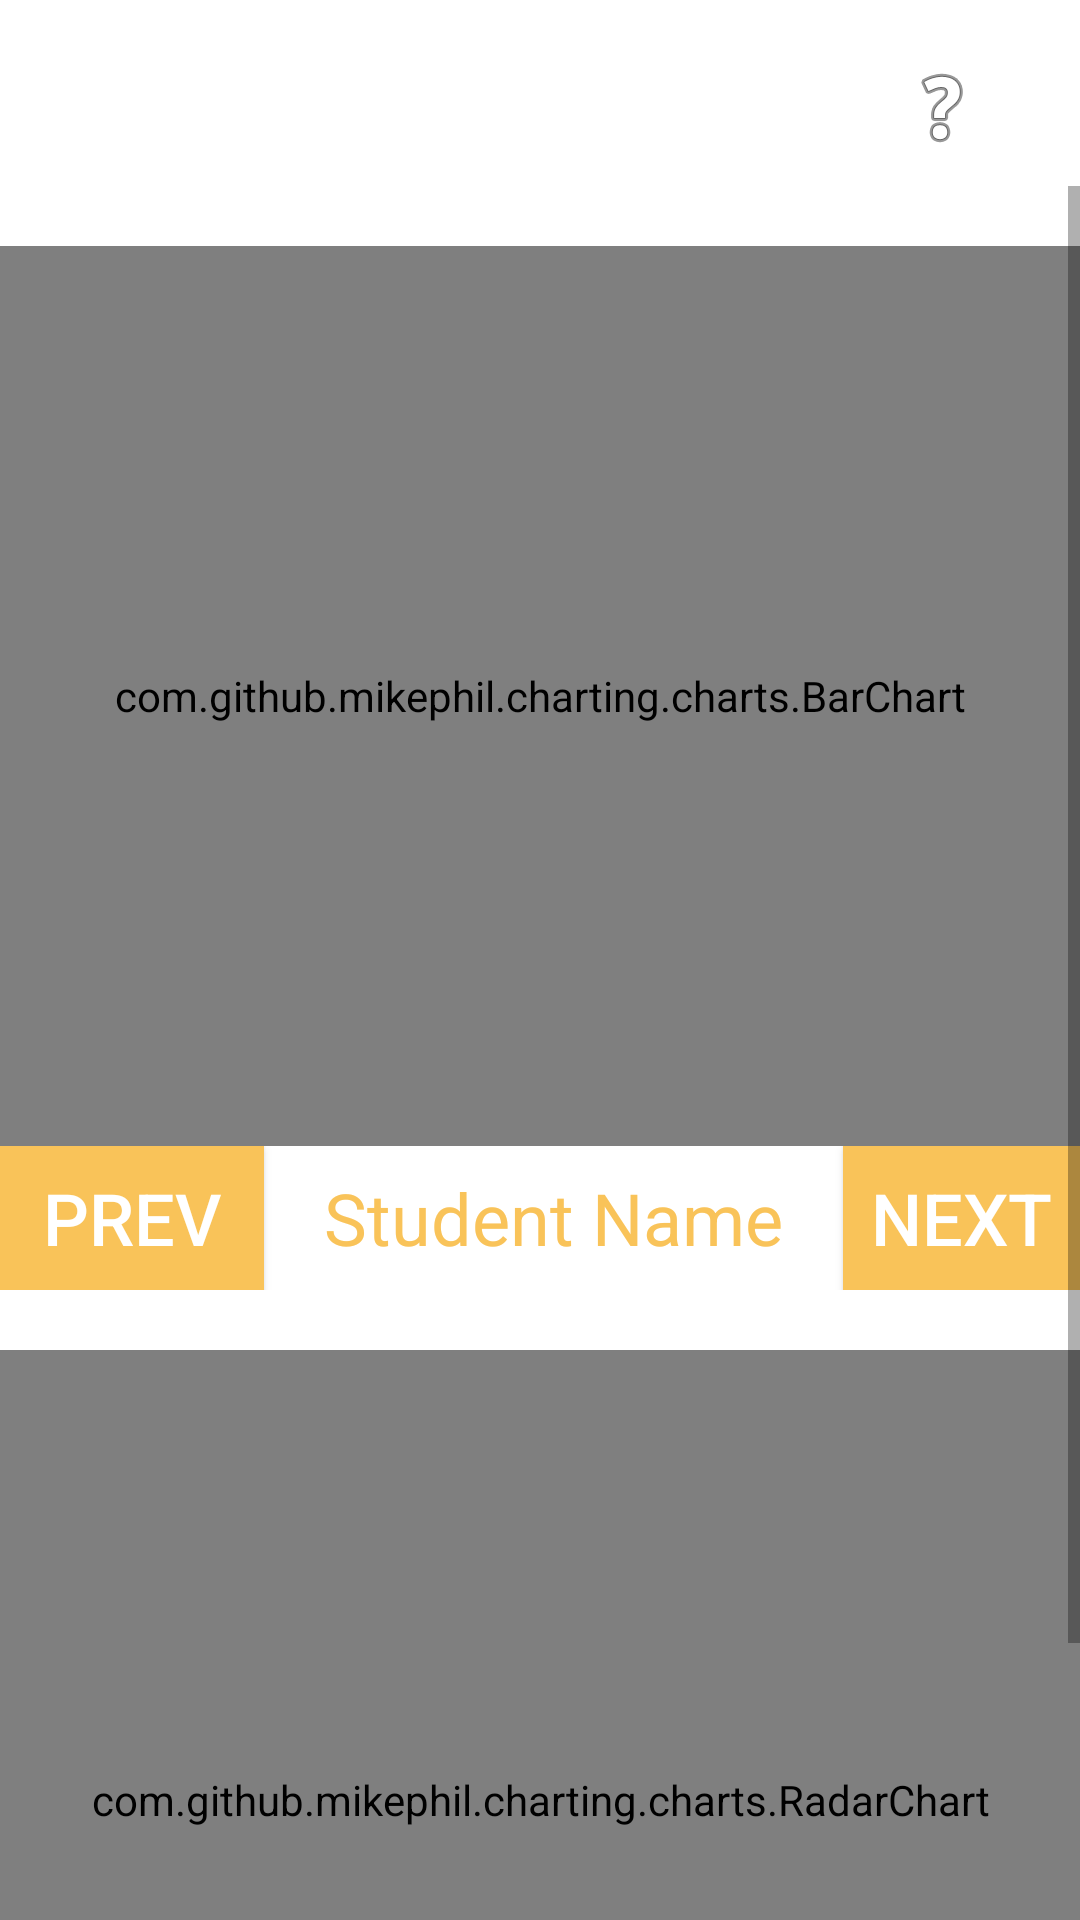

Screen size 1080 × 1920. Icon name, then its center in pixels as point (x, y):
help: point (942, 108)
